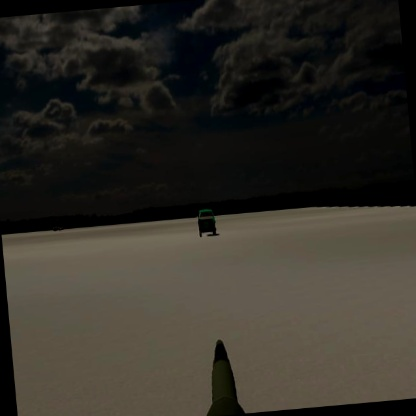green_car: (196, 208, 220, 239)
